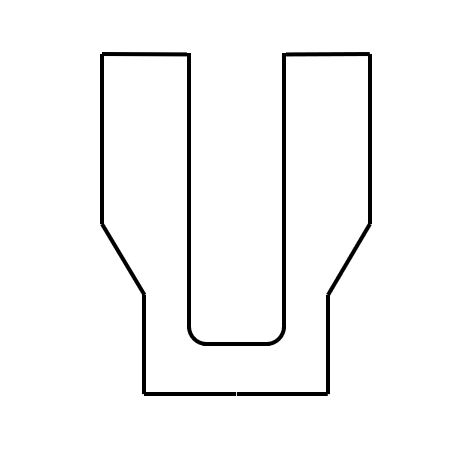nrfp: (81, 43, 388, 207)
